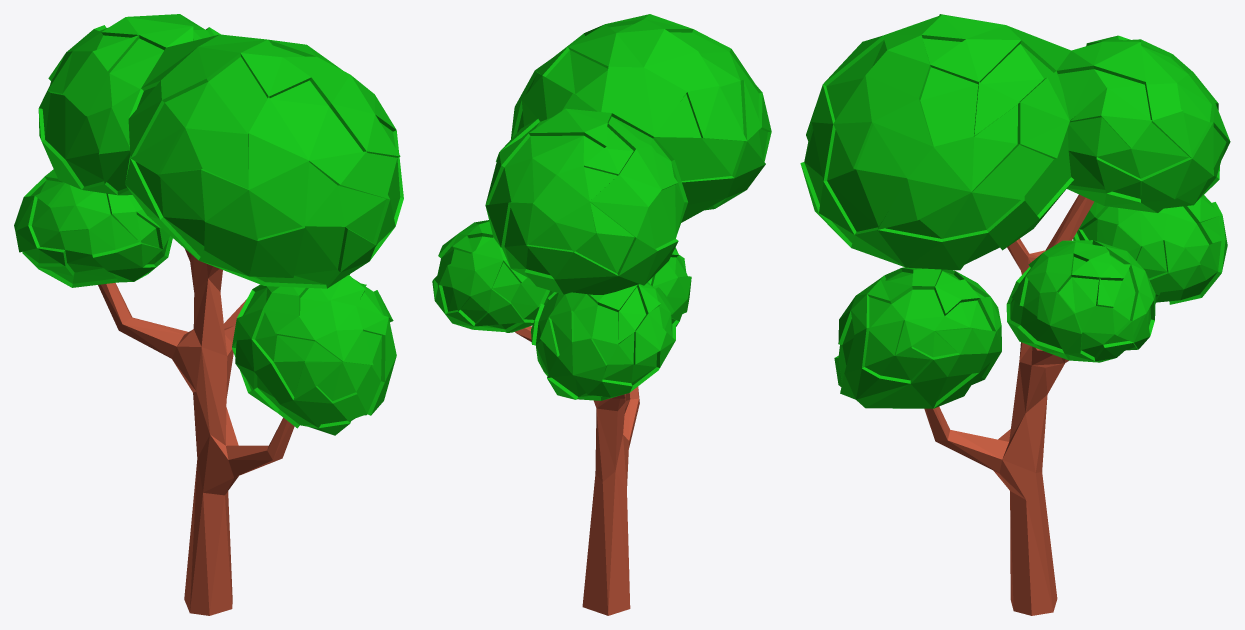
The model's file is tree_B_04.fbx.
3 views of the same model, side by side, from view 1: azimuth 30°, elevation 25°; view 2: azimuth 150°, elevation 25°; view 3: azimuth 270°, elevation 25° (orthographic). The views are drawn at different scales.
Parts seen in each view (by area): view 1: tree_B_04; view 2: tree_B_04; view 3: tree_B_04.
Boxes of the visible parts, box(x1,y1,x2,y2) form: tree_B_04: box(14, 14, 403, 615); tree_B_04: box(432, 14, 771, 615); tree_B_04: box(800, 14, 1230, 615).
Size of the model in its own units: 134 by 271 by 181.
